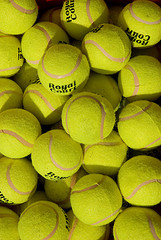tennis ball: (61, 91, 116, 145), (69, 173, 124, 227), (37, 43, 92, 96), (30, 129, 84, 182), (81, 22, 133, 76), (115, 152, 161, 209), (23, 76, 74, 125), (20, 21, 70, 70), (116, 99, 161, 152), (114, 1, 160, 51), (17, 199, 72, 240), (1, 106, 43, 159), (60, 1, 113, 41), (1, 157, 41, 206), (116, 54, 161, 96), (111, 204, 160, 238), (1, 1, 40, 37), (1, 35, 25, 79)
